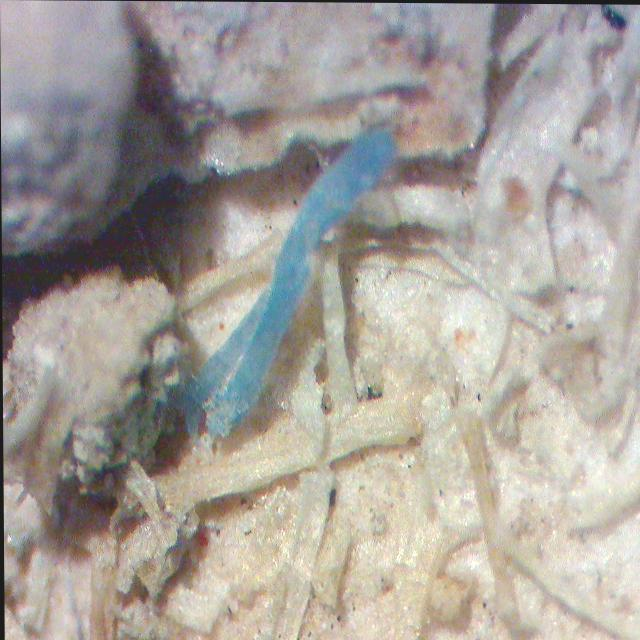microplastic: (163, 114, 423, 452)
